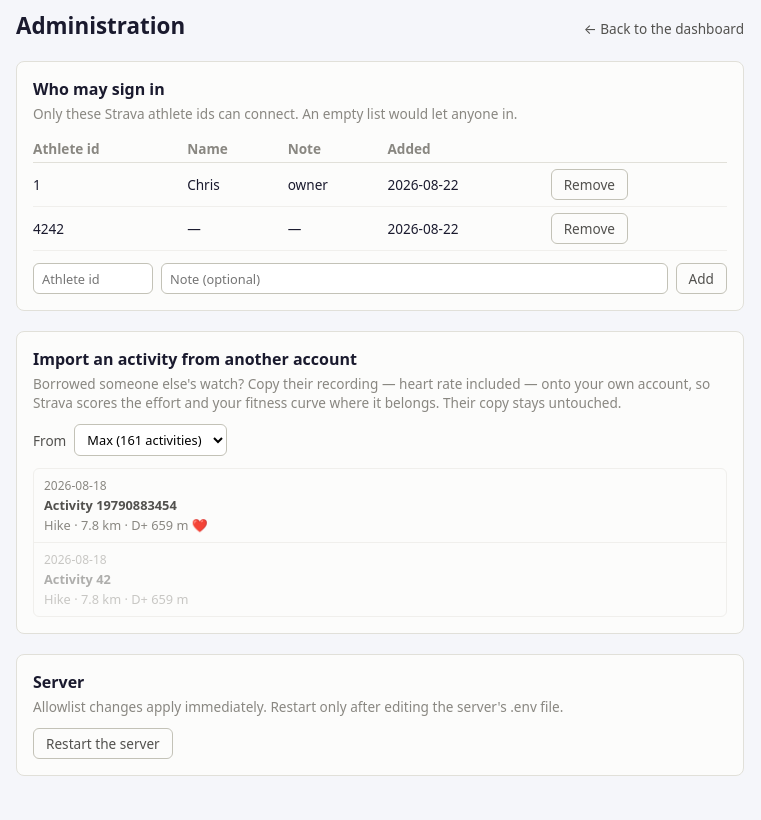
AdminPage › surfaces a failed add and keeps the draft
Type "77" into the field with class "add-id" at [93, 278], box [33,263,153,294]
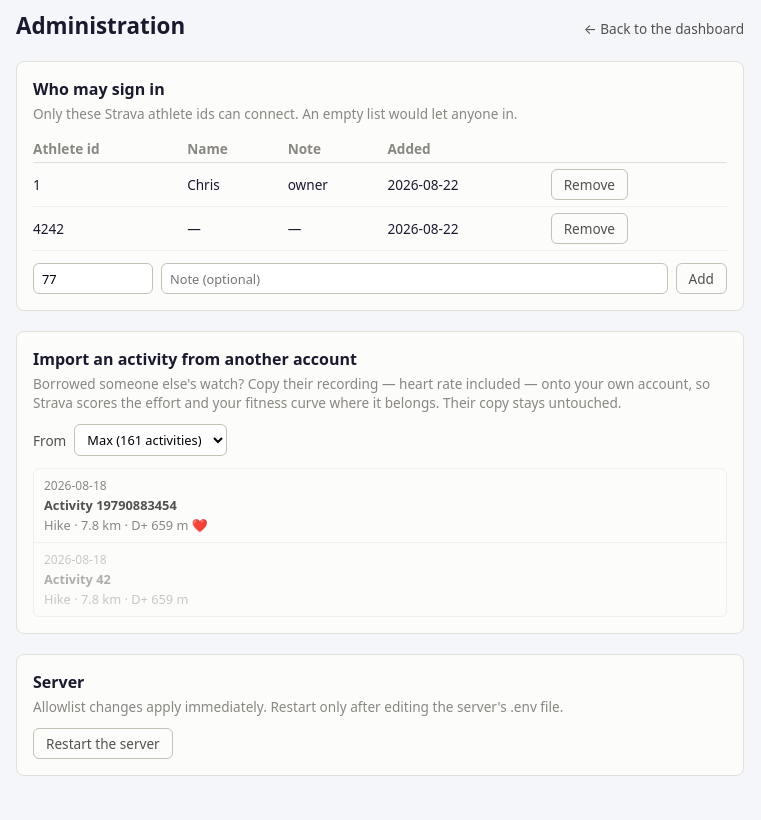
Submit the form with class "add", box [33,263,727,294]
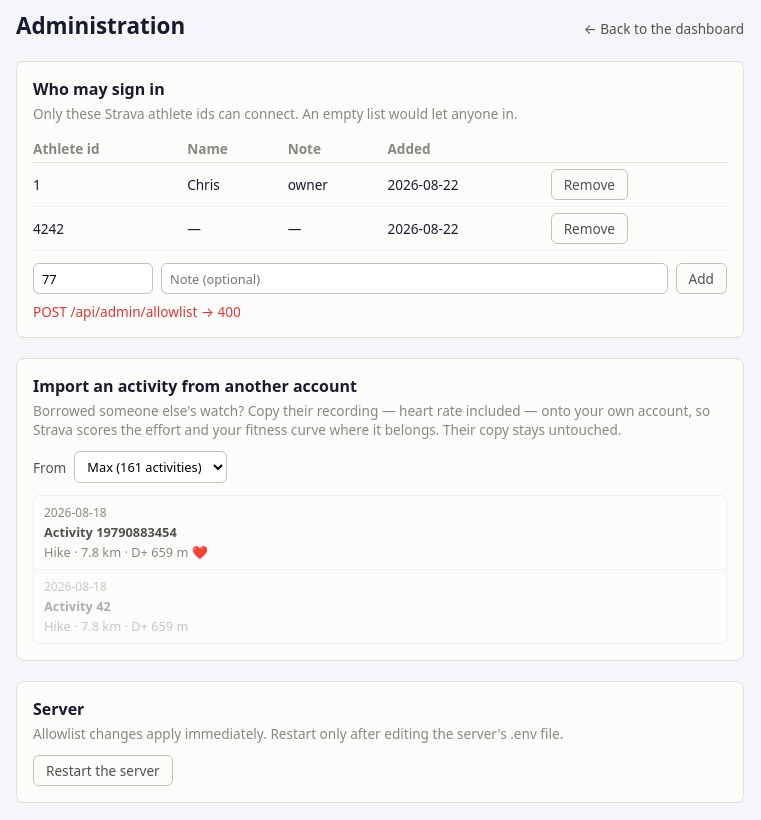
Expected: the text with class "error" shows "400", [33,302,241,321]
